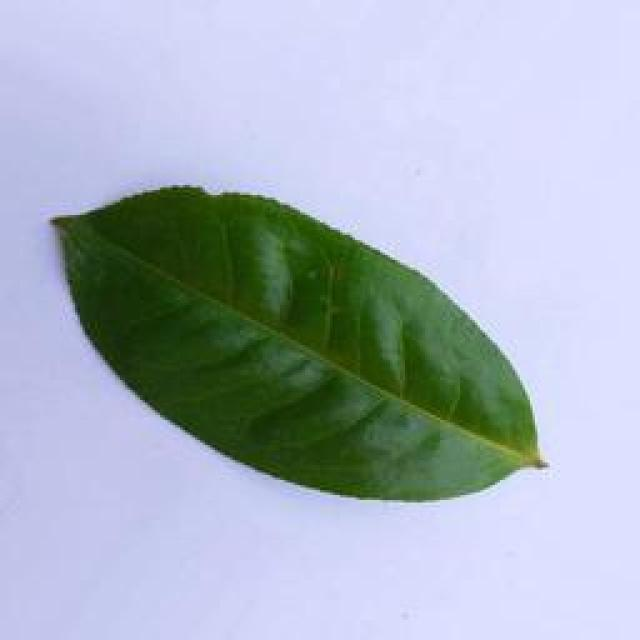Healthy: (47, 174, 553, 501)
